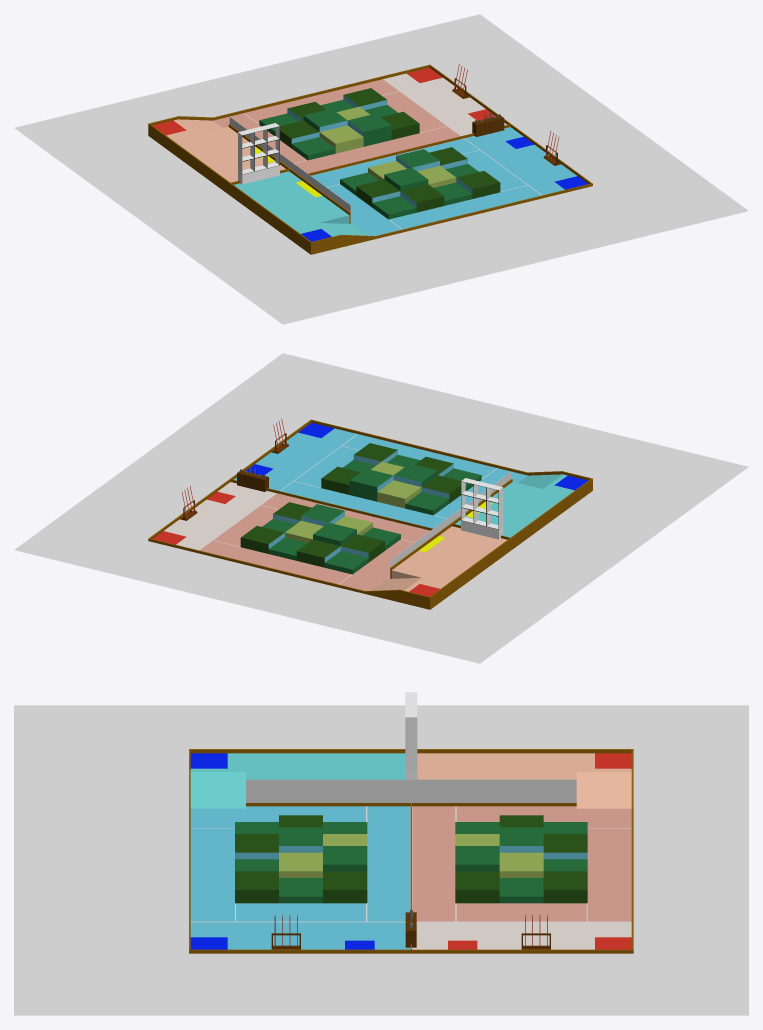
Rendered from robocon2026 copy.dae.
3 renders of one model, top to bottom at view 1: azimuth 30°, elevation 25°; view 2: azimuth 150°, elevation 25°; view 3: azimuth 270°, elevation 25°, orthographic. The views are drawn at different scales.
Parts seen in each view (by area): view 1: 平面.005, 主地图, 平面.006, 区域三放置架, 主地图.002; view 2: 平面.005, 主地图, 平面.006, 区域三放置架, 主地图.002; view 3: 平面.005, 主地图, 主地图.002, 平面.006, 2-3区围栏, 区域三放置架.
Part boxes in pixels (x1,y1,x2,y2): 平面.005: [14, 14, 748, 324]; 主地图: [153, 68, 587, 241]; 平面.006: [148, 64, 592, 254]; 区域三放置架: [238, 123, 279, 184]; 主地图.002: [229, 117, 350, 221]; 平面.005: [14, 353, 748, 663]; 主地图: [153, 422, 587, 596]; 平面.006: [148, 419, 592, 609]; 区域三放置架: [461, 478, 503, 539]; 主地图.002: [390, 471, 511, 567]; 平面.005: [14, 705, 748, 1015]; 主地图: [190, 753, 631, 949]; 主地图.002: [246, 779, 576, 802]; 平面.006: [189, 749, 633, 953]; 2-3区围栏: [246, 803, 576, 806]; 区域三放置架: [405, 692, 417, 779].
Bounding box in the file's own units: 20 × 20 × 2.45.
